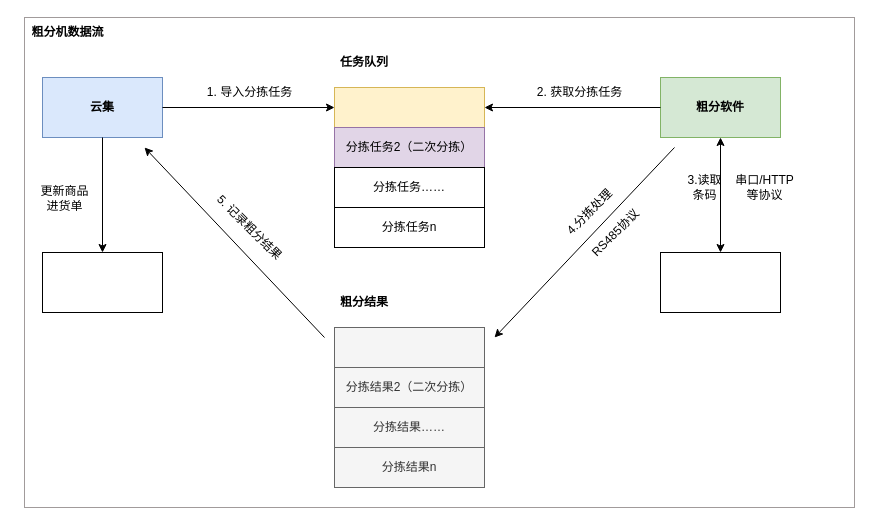
Some shapes in this 872 by 525 pixel diagram are drawn without their labels. Each missing label, with the box of its shape:
codermaster 读码平台: (660, 252, 780, 312)
E3系统: (42, 252, 162, 312)
分拣任务1（采购到货）: (334, 86, 484, 128)
分拣结果1（采购到货）: (334, 326, 484, 368)
